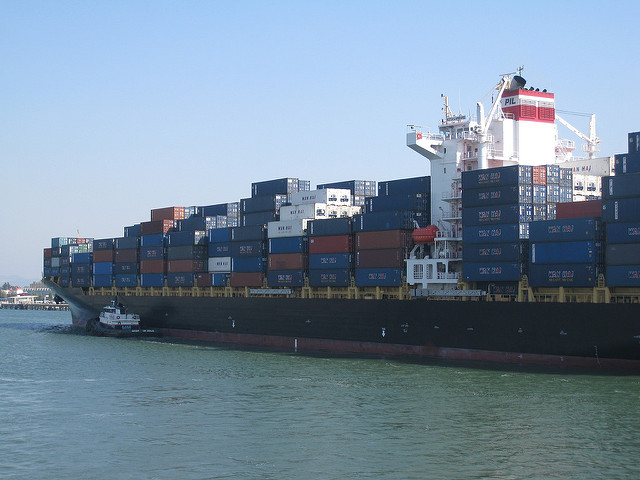container_ship: (45, 69, 637, 376)
tug_boat: (83, 300, 160, 338)
